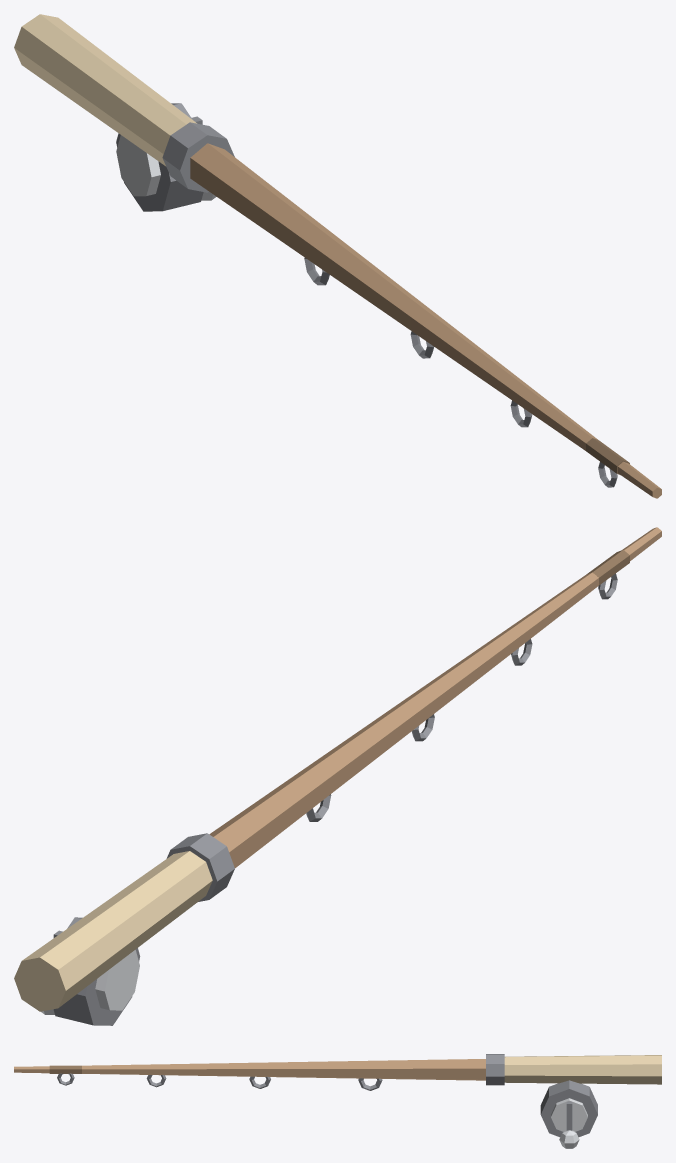
File: Rod_0.fbx
The picture shows the model from 3 angles, top to bottom: view 1: azimuth 30°, elevation 25°; view 2: azimuth 150°, elevation 25°; view 3: azimuth 270°, elevation 25°; orthographic projection. The views are drawn at different scales.
Parts seen in each view (by area): view 1: Handle, Rod_A, Rod_B, Ferrule, Reel_Spool, Reel_Body; view 2: Handle, Rod_A, Rod_B, Ferrule, Reel_Spool, Reel_Body; view 3: Handle, Rod_A, Rod_B, Reel_Body, Reel_Spool, Ferrule, Reel_Knob, Wrap3, Reel_Crank, Guide0.
Boxes of the visible parts, bbox=[...] form: Handle: bbox=[14, 14, 196, 166]; Rod_A: bbox=[190, 143, 432, 330]; Rod_B: bbox=[411, 308, 661, 498]; Ferrule: bbox=[162, 122, 234, 192]; Reel_Spool: bbox=[116, 135, 160, 196]; Reel_Body: bbox=[116, 103, 203, 211]; Handle: bbox=[14, 851, 212, 1011]; Rod_A: bbox=[209, 691, 433, 868]; Rod_B: bbox=[412, 527, 661, 713]; Ferrule: bbox=[166, 833, 234, 901]; Reel_Spool: bbox=[95, 950, 139, 1010]; Reel_Body: bbox=[53, 917, 140, 1025]; Handle: bbox=[504, 1055, 661, 1084]; Rod_A: bbox=[260, 1059, 485, 1080]; Rod_B: bbox=[14, 1062, 260, 1076]; Reel_Body: bbox=[540, 1080, 597, 1137]; Reel_Spool: bbox=[551, 1098, 587, 1131]; Ferrule: bbox=[486, 1054, 504, 1085]; Reel_Knob: bbox=[559, 1130, 579, 1148]; Wrap3: bbox=[49, 1065, 81, 1073]; Reel_Crank: bbox=[566, 1101, 572, 1130]; Guide0: bbox=[358, 1078, 382, 1090].
Bounding box in the file's own units: 0.1551 × 0.178 × 1.4.
